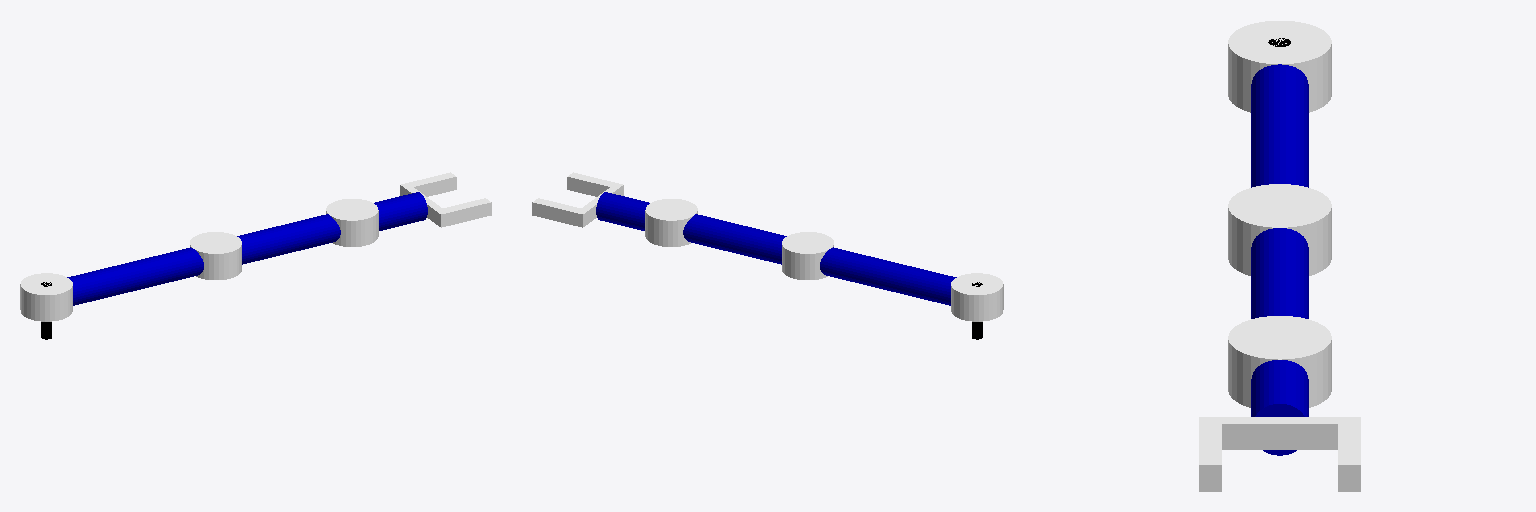
The robot description file, URDF, robot "manipulator2d":
<?xml version="1.0" ?>
<!-- =================================================================================== -->
<!-- |    This document was autogenerated by xacro from manipulator2d.xacro            | -->
<!-- |    EDITING THIS FILE BY HAND IS NOT RECOMMENDED                                 | -->
<!-- =================================================================================== -->
<!-- Manipulator 2D robot (based on Revolute-Revolute Manipulator) -->
<robot name="manipulator2d" xmlns:xacro="http://www.ros.org/wiki/xacro">
  <!-- ros_control plugin -->
  <gazebo>
    <plugin filename="libgazebo_ros_control.so" name="gazebo_ros_control">
      <robotNamespace>/manipulator2d</robotNamespace>
      <robotSimType>gazebo_ros_control/DefaultRobotHWSim</robotSimType>
    </plugin>
  </gazebo>
  <!-- Links | Colors -->
  <gazebo reference="base_link">
    <!--<gravity>0</gravity>-->
    <material>Gazebo/Black</material>
  </gazebo>
  <gazebo reference="coupler0">
    <!--<gravity>0</gravity>-->
    <material>Gazebo/White</material>
  </gazebo>
  <gazebo reference="link1">
    <!--<gravity>0</gravity>-->
    <mu1>0.2</mu1>
    <mu2>0.2</mu2>
    <material>Gazebo/Blue</material>
  </gazebo>
  <gazebo reference="coupler1">
    <!--<gravity>0</gravity>-->
    <material>Gazebo/White</material>
  </gazebo>
  <gazebo reference="link2">
    <!--<gravity>0</gravity>-->
    <mu1>0.2</mu1>
    <mu2>0.2</mu2>
    <material>Gazebo/Blue</material>
  </gazebo>
  <gazebo reference="coupler2">
    <material>Gazebo/White</material>
  </gazebo>
  <gazebo reference="link3">
    <!--<gravity>0</gravity>-->
    <mu1>0.2</mu1>
    <mu2>0.2</mu2>
    <material>Gazebo/Blue</material>
  </gazebo>
  <gazebo reference="camera_link">
    <!--<gravity>0</gravity>-->
    <mu1>0.2</mu1>
    <mu1>0.2</mu1>
    <mu2>0.2</mu2>
    <material>Gazebo/Red</material>
  </gazebo>
  <!--&lt;!&ndash; hokuyo &ndash;&gt;-->
  <!--<gazebo reference="hokuyo_link">-->
  <!--<sensor type="gpu_ray" name="head_hokuyo_sensor">-->
  <!--<pose>0 0 0 0 0 0</pose>-->
  <!--<visualize>false</visualize>-->
  <!--<update_rate>40</update_rate>-->
  <!--<ray>-->
  <!--<scan>-->
  <!--<horizontal>-->
  <!--<samples>720</samples>-->
  <!--<resolution>1</resolution>-->
  <!--<min_angle>-1.570796</min_angle>-->
  <!--<max_angle>1.570796</max_angle>-->
  <!--</horizontal>-->
  <!--</scan>-->
  <!--<range>-->
  <!--<min>0.10</min>-->
  <!--<max>30.0</max>-->
  <!--<resolution>0.01</resolution>-->
  <!--</range>-->
  <!--<noise>-->
  <!--<type>gaussian</type>-->
  <!--&lt;!&ndash; Noise parameters based on published spec for Hokuyo laser-->
  <!--achieving "+-30mm" accuracy at range < 10m.  A mean of 0.0m and-->
  <!--stddev of 0.01m will put 99.7% of samples within 0.03m of the true-->
  <!--reading. &ndash;&gt;-->
  <!--<mean>0.0</mean>-->
  <!--<stddev>0.01</stddev>-->
  <!--</noise>-->
  <!--</ray>-->
  <!--<plugin name="gazebo_ros_head_hokuyo_controller" filename="libgazebo_ros_gpu_laser.so">-->
  <!--<topicName>/manipulator2d/laser/scan</topicName>-->
  <!--<frameName>hokuyo_link</frameName>-->
  <!--</plugin>-->
  <!--</sensor>-->
  <!--</gazebo>-->
  <!-- camera -->
  <gazebo reference="camera_link">
    <sensor name="camera1" type="camera">
      <update_rate>30.0</update_rate>
      <camera name="head">
        <horizontal_fov>1.3962634</horizontal_fov>
        <image>
          <width>800</width>
          <height>800</height>
          <format>R8G8B8</format>
        </image>
        <clip>
          <near>0.02</near>
          <far>300</far>
        </clip>
        <noise>
          <type>gaussian</type>
          <!-- Noise is sampled independently per pixel on each frame.
               That pixel's noise value is added to each of its color
               channels, which at that point lie in the range [0,1]. -->
          <mean>0.0</mean>
          <stddev>0.007</stddev>
        </noise>
      </camera>
      <plugin filename="libgazebo_ros_camera.so" name="camera_controller">
        <alwaysOn>true</alwaysOn>
        <updateRate>0.0</updateRate>
        <cameraName>manipulator2d/camera1</cameraName>
        <imageTopicName>image_raw</imageTopicName>
        <cameraInfoTopicName>camera_info</cameraInfoTopicName>
        <frameName>camera_link_optical</frameName>
        <!-- setting hackBaseline to anything but 0.0 will cause a misalignment
            between the gazebo sensor image and the frame it is supposed to
            be attached to -->
        <hackBaseline>0.0</hackBaseline>
        <distortionK1>0.0</distortionK1>
        <distortionK2>0.0</distortionK2>
        <distortionK3>0.0</distortionK3>
        <distortionT1>0.0</distortionT1>
        <distortionT2>0.0</distortionT2>
        <CxPrime>0</CxPrime>
        <Cx>0.0</Cx>
        <Cy>0.0</Cy>
        <focalLength>0.0</focalLength>
      </plugin>
    </sensor>
  </gazebo>
  <material name="black">
    <color rgba="0.0 0.0 0.0 1.0"/>
  </material>
  <material name="blue">
    <color rgba="0.0 0.0 0.8 1.0"/>
  </material>
  <material name="green">
    <color rgba="0.0 0.8 0.0 1.0"/>
  </material>
  <material name="grey">
    <color rgba="0.2 0.2 0.2 1.0"/>
  </material>
  <material name="orange">
    <color rgba="1.0 0.423529411765 0.0392156862745 1.0"/>
  </material>
  <material name="brown">
    <color rgba="0.870588235294 0.811764705882 0.764705882353 1.0"/>
  </material>
  <material name="red">
    <color rgba="0.8 0.0 0.0 1.0"/>
  </material>
  <material name="white">
    <color rgba="1.0 1.0 1.0 1.0"/>
  </material>
  <!-- Used for fixing robot to Gazebo 'base_link' -->
  <link name="world"/>
  <!--<joint name="fixed" type="fixed">-->
  <!--<parent link="world"/>-->
  <!--<child link="link1"/>-->
  <!--<origin xyz="0 0 ${base_z}" rpy="0 0 0"/>-->
  <!--</joint>-->
  <joint name="fixed" type="fixed">
    <parent link="world"/>
    <child link="base_link"/>
    <origin rpy="0 0 0" xyz="0 0 0.0"/>
  </joint>
  <link name="base_link">
    <collision>
      <origin rpy="0 0 0" xyz="0 0 0.05"/>
      <geometry>
        <cylinder length="0.1" radius="0.01"/>
      </geometry>
    </collision>
    <visual>
      <origin rpy="0 0 0" xyz="0 0 0.05"/>
      <geometry>
        <cylinder length="0.1" radius="0.01"/>
      </geometry>
      <material name="black"/>
    </visual>
    <inertial>
      <origin rpy="0 0 0" xyz="0 0 0.05"/>
      <mass value="4.93230046614"/>
      <inertia ixx="0.0042335579001" ixy="0.0" ixz="0.0" iyy="0.0042335579001" iyz="0.0" izz="0.000246615023307"/>
    </inertial>
  </link>
  <joint name="joint0" type="continuous">
    <parent link="base_link"/>
    <child link="coupler0"/>
    <origin rpy="0 0 0" xyz="0 0 0.075"/>
    <axis xyz="0 0 1"/>
    <dynamics damping="0.7"/>
  </joint>
  <link name="coupler0">
    <visual>
      <origin rpy="0 0 0" xyz="0 0 0"/>
      <geometry>
        <!--<sphere radius="${radius_axel}"/>-->
        <cylinder length="0.05" radius="0.045"/>
      </geometry>
      <material name="white"/>
    </visual>
  </link>
  <joint name="coupler_joint0" type="fixed">
    <parent link="coupler0"/>
    <child link="link1"/>
    <origin rpy="0 0 0" xyz="0 0 0"/>
  </joint>
  <!-- Base Link -->
  <link name="link1">
    <collision>
      <origin rpy="1.57079632679 0 1.57079632679" xyz="0.15 0 0"/>
      <geometry>
        <cylinder length="0.3" radius="0.025"/>
      </geometry>
    </collision>
    <visual>
      <origin rpy="1.57079632679 0 1.57079632679" xyz="0.15 0 0"/>
      <geometry>
        <cylinder length="0.3" radius="0.025"/>
      </geometry>
      <material name="blue"/>
    </visual>
    <inertial>
      <origin rpy="1.57079632679 0 1.57079632679" xyz="0.15 0 0"/>
      <mass value="1.2723450247"/>
      <inertia ixx="0.00974139159539" ixy="0.0" ixz="0.0" iyy="0.00974139159539" iyz="0.0" izz="0.00039760782022"/>
    </inertial>
  </link>
  <!--<joint name="joint1" type="continuous">-->
  <!--<parent link="link1"/>-->
  <!--<child link="link2"/>-->
  <!--<origin xyz="${height1 + axel_offset} 0 0" rpy="0 0 0"/>-->
  <!--<axis xyz="0 0 1"/>-->
  <!--<dynamics damping="0.7"/>-->
  <!--</joint>-->
  <joint name="joint1" type="continuous">
    <parent link="link1"/>
    <child link="coupler1"/>
    <origin rpy="0 0 0" xyz="0.335 0 0"/>
    <axis xyz="0 0 1"/>
    <dynamics damping="0.7"/>
  </joint>
  <link name="coupler1">
    <visual>
      <origin rpy="0 0 0" xyz="0 0 0"/>
      <geometry>
        <cylinder length="0.05" radius="0.045"/>
      </geometry>
      <material name="white"/>
    </visual>
  </link>
  <joint name="coupler_joint1" type="fixed">
    <parent link="coupler1"/>
    <child link="link2"/>
    <origin rpy="0 0 0" xyz="0.035 0 0"/>
  </joint>
  <!--Middle Link-->
  <link name="link2">
    <collision>
      <origin rpy="1.57079632679 0 1.57079632679" xyz="0.1 0 0"/>
      <geometry>
        <cylinder length="0.2" radius="0.025"/>
      </geometry>
    </collision>
    <visual>
      <origin rpy="1.57079632679 0 1.57079632679" xyz="0.1 0 0"/>
      <geometry>
        <cylinder length="0.2" radius="0.025"/>
      </geometry>
      <material name="blue"/>
    </visual>
    <inertial>
      <origin rpy="1.57079632679 0 1.57079632679" xyz="0.1 0 0"/>
      <mass value="0.848230016469"/>
      <inertia ixx="0.00437368602242" ixy="0.0" ixz="0.0" iyy="0.00437368602242" iyz="0.0" izz="0.000265071880147"/>
    </inertial>
  </link>
  <!--<joint name="joint2" type="continuous">-->
  <!--<parent link="link2"/>-->
  <!--<child link="link3"/>-->
  <!--<origin xyz="${height2 + axel_offset*2} 0.1 0.1" rpy="0 0 0"/>-->
  <!--<axis xyz="0 0 1"/>-->
  <!--<dynamics damping="0.7"/>-->
  <!--</joint>-->
  <joint name="joint2" type="continuous">
    <parent link="link2"/>
    <child link="coupler2"/>
    <origin rpy="0 0 0" xyz="0.235 0 0"/>
    <axis xyz="0 0 1"/>
    <dynamics damping="0.7"/>
  </joint>
  <link name="coupler2">
    <visual>
      <origin rpy="0 0 0" xyz="0 0 0"/>
      <geometry>
        <cylinder length="0.05" radius="0.045"/>
      </geometry>
      <material name="white"/>
    </visual>
  </link>
  <joint name="coupler_joint2" type="fixed">
    <parent link="coupler2"/>
    <child link="link3"/>
    <origin rpy="0 0 0" xyz="0.035 0 0"/>
  </joint>
  <!--Top Link-->
  <link name="link3">
    <collision>
      <origin rpy="1.57079632679 0 1.57079632679" xyz="0.05 0 0"/>
      <geometry>
        <cylinder length="0.1" radius="0.025"/>
      </geometry>
    </collision>
    <visual>
      <origin rpy="1.57079632679 0 1.57079632679" xyz="0.05 0 0"/>
      <geometry>
        <cylinder length="0.1" radius="0.025"/>
      </geometry>
      <material name="blue"/>
    </visual>
    <inertial>
      <origin rpy="1.57079632679 0 1.57079632679" xyz="0.05 0 0"/>
      <mass value="0.424115008235"/>
      <inertia ixx="0.00112655549062" ixy="0.0" ixz="0.0" iyy="0.00112655549062" iyz="0.0" izz="0.000132535940073"/>
    </inertial>
  </link>
  <joint name="gripper_joint" type="fixed">
    <parent link="link3"/>
    <child link="gripper"/>
    <origin rpy="0 0 0" xyz="0.1 0 0"/>
  </joint>
  <link name="gripper">
    <visual>
      <origin rpy="1.57079632679 0 1.57079632679" xyz="0.0075 0 0"/>
      <geometry>
        <box size="0.14 0.025 0.015"/>
      </geometry>
      <material name="white"/>
    </visual>
    <visual>
      <origin rpy="1.57079632679 0 1.57079632679" xyz="0.0575 0.06 0"/>
      <geometry>
        <box size="0.02 0.025 0.085"/>
      </geometry>
      <material name="white"/>
    </visual>
    <visual>
      <origin rpy="1.57079632679 0 1.57079632679" xyz="0.0575 -0.06 0"/>
      <geometry>
        <box size="0.02 0.025 0.085"/>
      </geometry>
      <material name="white"/>
    </visual>
    <collision>
      <origin rpy="1.57079632679 0 1.57079632679" xyz="0.0075 0 0"/>
      <geometry>
        <box size="0.14 0.025 0.015"/>
      </geometry>
      <material name="white"/>
    </collision>
    <collision>
      <origin rpy="1.57079632679 0 1.57079632679" xyz="0.0575 0.06 0"/>
      <geometry>
        <box size="0.02 0.025 0.085"/>
      </geometry>
      <material name="white"/>
    </collision>
    <collision>
      <origin rpy="1.57079632679 0 1.57079632679" xyz="0.0575 -0.06 0"/>
      <geometry>
        <box size="0.02 0.025 0.085"/>
      </geometry>
      <material name="white"/>
    </collision>
  </link>
  <!--<joint name="hokuyo_joint" type="fixed">-->
  <!--<axis xyz="0 1 0" />-->
  <!--<origin xyz="0 0 ${height3 - axel_offset/2}" rpy="0 0 0"/>-->
  <!--<parent link="link3"/>-->
  <!--<child link="hokuyo_link"/>-->
  <!--</joint>-->
  <!--&lt;!&ndash; Hokuyo Laser &ndash;&gt;-->
  <!--<link name="hokuyo_link">-->
  <!--<collision>-->
  <!--<origin xyz="0 0 0" rpy="0 0 0"/>-->
  <!--<geometry>-->
  <!--<box size="0.1 0.1 0.1"/>-->
  <!--</geometry>-->
  <!--</collision>-->
  <!--<visual>-->
  <!--<origin xyz="0 0 0" rpy="0 0 0"/>-->
  <!--<geometry>-->
  <!--<mesh filename="package://manipulator2d_description/meshes/hokuyo.dae"/>-->
  <!--</geometry>-->
  <!--</visual>-->
  <!--<inertial>-->
  <!--<mass value="1e-5" />-->
  <!--<origin xyz="0 0 0" rpy="0 0 0"/>-->
  <!--<inertia ixx="1e-6" ixy="0" ixz="0" iyy="1e-6" iyz="0" izz="1e-6" />-->
  <!--</inertial>-->
  <!--</link>-->
  <joint name="camera_joint" type="fixed">
    <axis xyz="0 1 0"/>
    <origin rpy="0 1.57079632679 1.57079632679" xyz="0.0 0.0 1.5"/>
    <parent link="base_link"/>
    <child link="camera_link"/>
  </joint>
  <!-- Camera -->
  <link name="camera_link">
    <!--<collision>-->
    <!--<origin xyz="0 0 0" rpy="0 0 0"/>-->
    <!--<geometry>-->
    <!--<box size="${camera_link} ${camera_link} ${camera_link}"/>-->
    <!--</geometry>-->
    <!--</collision>-->
    <!--<visual>-->
    <!--<origin xyz="0 0 0" rpy="0 0 0"/>-->
    <!--<geometry>-->
    <!--<box size="${camera_link} ${camera_link} ${camera_link}"/>-->
    <!--</geometry>-->
    <!--<material name="red"/>-->
    <!--</visual>-->
    <!--<inertial>-->
    <!--<mass value="1e-5" />-->
    <!--<origin xyz="0 0 0" rpy="0 0 0"/>-->
    <!--<inertia ixx="1e-6" ixy="0" ixz="0" iyy="1e-6" iyz="0" izz="1e-6" />-->
    <!--</inertial>-->
  </link>
  <!-- generate an optical frame http://www.ros.org/reps/rep-0103.html#suffix-frames
      so that ros and opencv can operate on the camera frame correctly -->
  <joint name="camera_optical_joint" type="fixed">
    <!-- these values have to be these values otherwise the gazebo camera image
        won't be aligned properly with the frame it is supposedly originating from -->
    <origin rpy="-1.57079632679 0 -1.57079632679" xyz="0 0 0"/>
    <parent link="camera_link"/>
    <child link="camera_link_optical"/>
  </joint>
  <link name="camera_link_optical">
  </link>
  <transmission name="tran0">
    <type>transmission_interface/SimpleTransmission</type>
    <joint name="joint0">
      <hardwareInterface>hardware_interface/EffortJointInterface</hardwareInterface>
    </joint>
    <actuator name="motor0">
      <hardwareInterface>hardware_interface/EffortJointInterface</hardwareInterface>
      <mechanicalReduction>1</mechanicalReduction>
    </actuator>
  </transmission>
  <transmission name="tran1">
    <type>transmission_interface/SimpleTransmission</type>
    <joint name="joint1">
      <hardwareInterface>hardware_interface/EffortJointInterface</hardwareInterface>
    </joint>
    <actuator name="motor1">
      <hardwareInterface>hardware_interface/EffortJointInterface</hardwareInterface>
      <mechanicalReduction>1</mechanicalReduction>
    </actuator>
  </transmission>
  <transmission name="tran2">
    <type>transmission_interface/SimpleTransmission</type>
    <joint name="joint2">
      <hardwareInterface>hardware_interface/EffortJointInterface</hardwareInterface>
    </joint>
    <actuator name="motor2">
      <hardwareInterface>hardware_interface/EffortJointInterface</hardwareInterface>
      <mechanicalReduction>1</mechanicalReduction>
    </actuator>
  </transmission>
</robot>

--- Render facts (derived) ---
3 views of the same robot in one strip: view 1: azimuth 30°, elevation 25°; view 2: azimuth 150°, elevation 25°; view 3: azimuth 270°, elevation 25° (orthographic).
Robot: manipulator2d — 11 links, 10 joints (3 continuous, 7 fixed); root link world; default pose: all joints at 0.
Visible links, largest first — view 1: link1, link2, coupler0, gripper, coupler2, coupler1, link3; view 2: link1, link2, coupler0, gripper, coupler2, coupler1, link3; view 3: gripper, link1, coupler1, coupler2, coupler0, link2, link3.
Boxes of the visible links, bbox=[...] form: link1: bbox=[67, 247, 203, 305]; link2: bbox=[237, 214, 340, 264]; coupler0: bbox=[20, 273, 72, 321]; gripper: bbox=[400, 172, 491, 227]; coupler2: bbox=[326, 199, 378, 246]; coupler1: bbox=[190, 232, 241, 279]; link3: bbox=[374, 192, 427, 230]; link1: bbox=[820, 247, 956, 305]; link2: bbox=[683, 214, 786, 264]; coupler0: bbox=[951, 273, 1003, 321]; gripper: bbox=[532, 172, 623, 227]; coupler2: bbox=[645, 199, 697, 246]; coupler1: bbox=[782, 232, 833, 279]; link3: bbox=[596, 192, 649, 230]; gripper: bbox=[1199, 417, 1360, 491]; link1: bbox=[1251, 64, 1308, 187]; coupler1: bbox=[1228, 184, 1331, 275]; coupler2: bbox=[1228, 316, 1331, 407]; coupler0: bbox=[1228, 21, 1331, 112]; link2: bbox=[1251, 228, 1308, 318]; link3: bbox=[1251, 360, 1308, 455].
Bounding box of the posed robot: 0.885 × 0.14 × 0.1 m (x, y, z).
Geometry: primitives only (box / cylinder / sphere), no mesh files.
